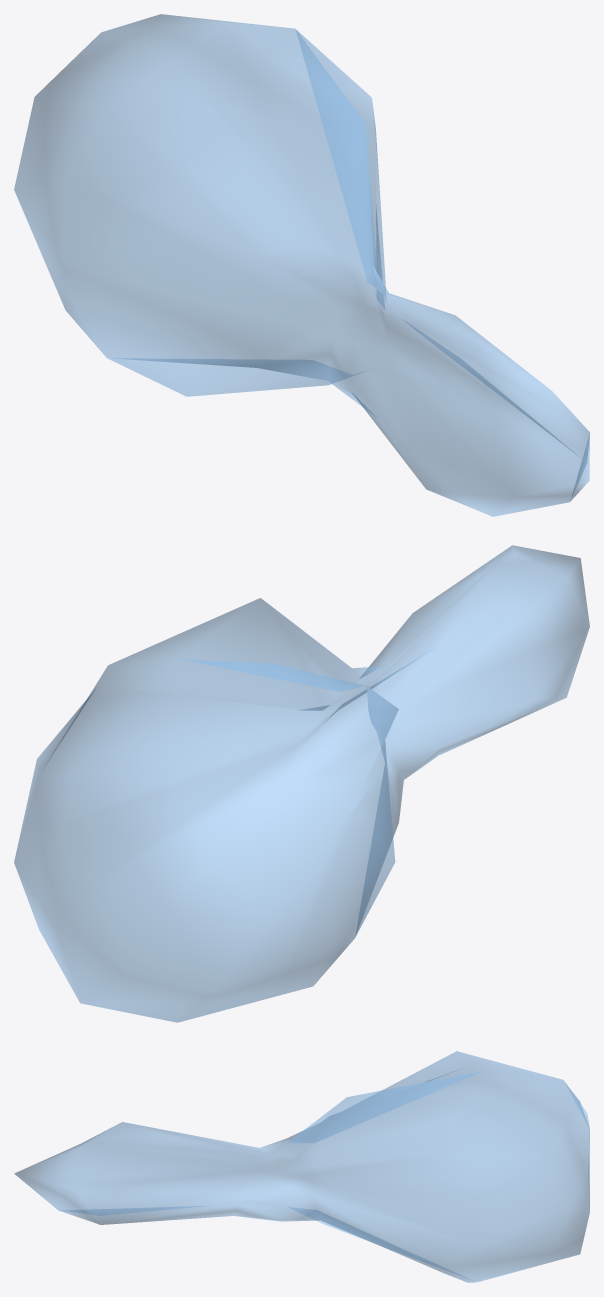
Rendered from mocellus_shield.gltf.
3 views of the same model, one above another, from view 1: azimuth 30°, elevation 25°; view 2: azimuth 150°, elevation 25°; view 3: azimuth 270°, elevation 25° (orthographic). The views are drawn at different scales.
Parts seen in each view (by area): view 1: mocellus.shield; view 2: mocellus.shield; view 3: mocellus.shield.
Part boxes in pixels (x1,y1,x2,y2): mocellus.shield: (14,14,589,516); mocellus.shield: (14,545,589,1022); mocellus.shield: (14,1051,589,1282).
Bounding box in the file's own units: 4.02 × 3.95 × 9.74.
